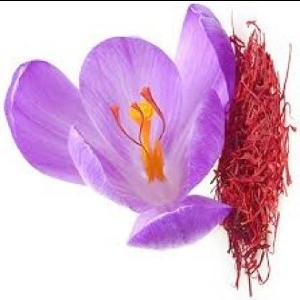Saffron: (3, 1, 238, 252)
